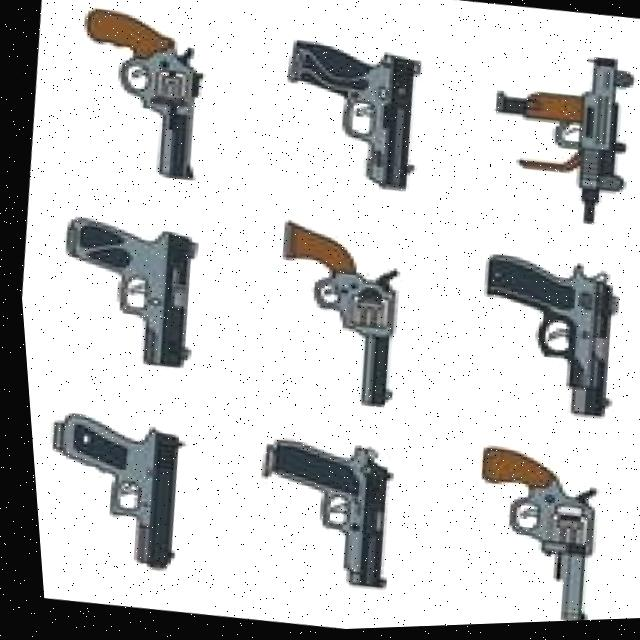firearm: (474, 46, 640, 236)
pistol: (255, 215, 414, 415), (460, 250, 628, 429), (26, 405, 194, 577), (62, 4, 217, 186), (453, 443, 603, 628), (238, 432, 399, 597), (269, 36, 431, 199), (44, 211, 206, 373)
